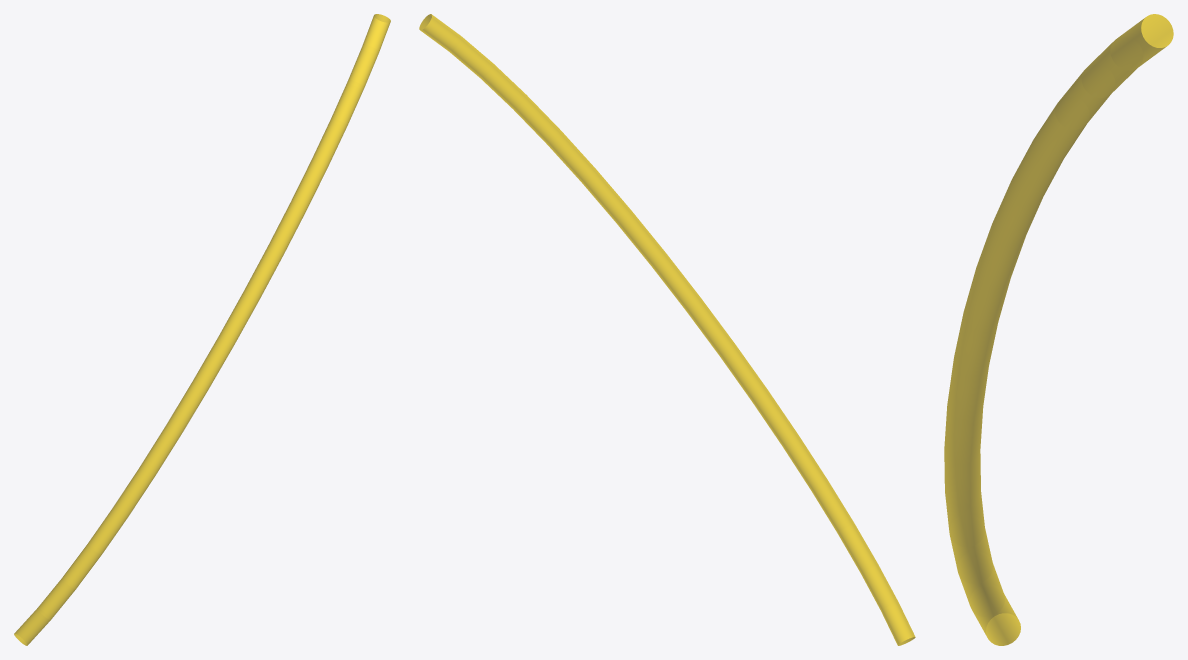
The model's file is Event_402970704_track_2.fbx.
3 views of the same model, side by side, from view 1: azimuth 30°, elevation 25°; view 2: azimuth 150°, elevation 25°; view 3: azimuth 270°, elevation 25° (orthographic). The views are drawn at different scales.
Parts seen in each view (by area): view 1: Model; view 2: Model; view 3: Model.
Part boxes in pixels (x1,y1,x2,y2): Model: (14, 14, 390, 645); Model: (419, 14, 915, 645); Model: (944, 14, 1173, 645).
Bounding box in the file's own units: 1.05 × 1.24 × 0.254.
